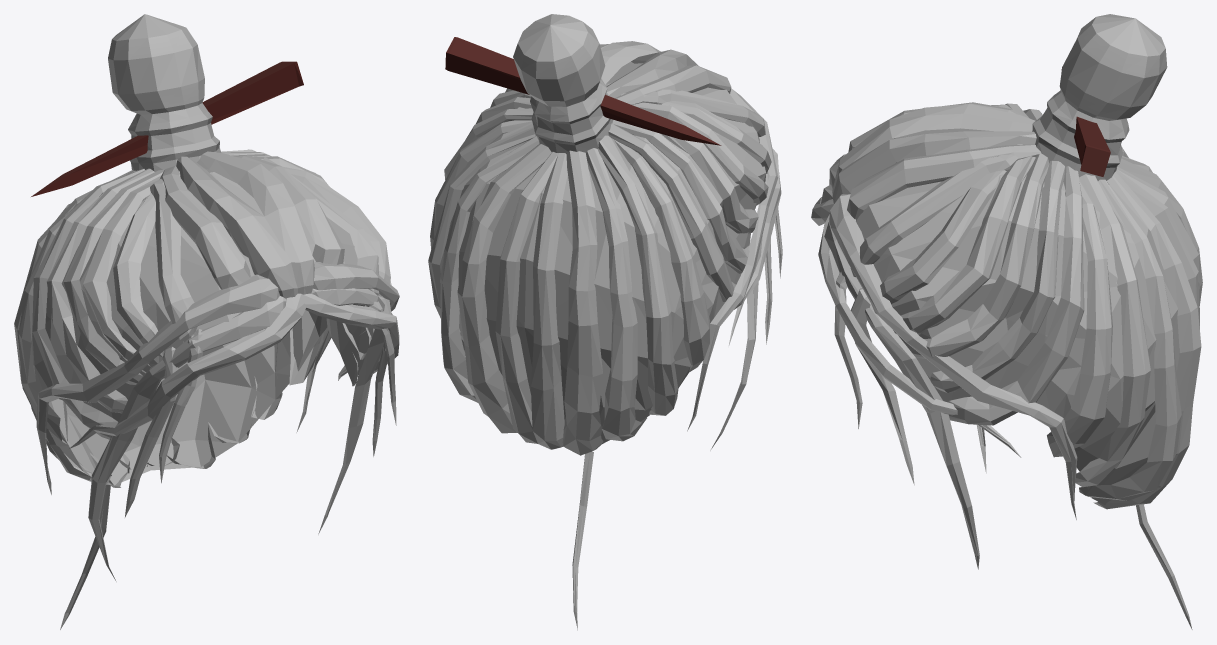
The model's file is hairTiedWithStick.glb.
The picture shows the model from 3 angles, left to right: view 1: azimuth 30°, elevation 25°; view 2: azimuth 150°, elevation 25°; view 3: azimuth 270°, elevation 25°; orthographic projection. The views are drawn at different scales.
Parts seen in each view (by area): view 1: hairTiedWithStickFemale; view 2: hairTiedWithStickFemale; view 3: hairTiedWithStickFemale.
Part boxes in pixels (<box>): hairTiedWithStickFemale: <box>14,14,399,629</box>; hairTiedWithStickFemale: <box>428,14,782,630</box>; hairTiedWithStickFemale: <box>811,14,1202,629</box>.
Size of the model in its own units: 0.2579 by 0.5049 by 0.2795.
